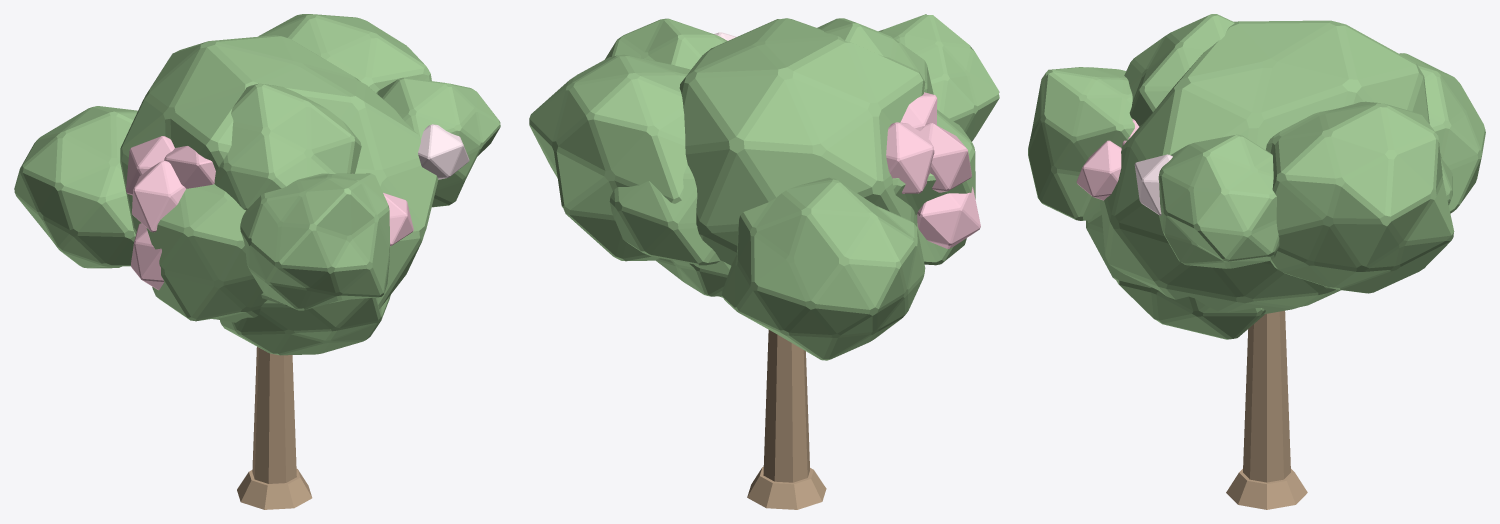
File: Veg_Tree_Blossom.fbx
3 renders of one model, left to right at view 1: azimuth 30°, elevation 25°; view 2: azimuth 150°, elevation 25°; view 3: azimuth 270°, elevation 25°, orthographic. The views are drawn at different scales.
Visible parts, largest first — view 1: Veg_Tree_Blossom_Veg, Veg_Tree_Blossom; view 2: Veg_Tree_Blossom_Veg, Veg_Tree_Blossom; view 3: Veg_Tree_Blossom_Veg, Veg_Tree_Blossom.
Boxes of the visible parts, x1,y1,x2,y2 form: Veg_Tree_Blossom_Veg: [14, 14, 500, 355]; Veg_Tree_Blossom: [237, 347, 312, 509]; Veg_Tree_Blossom_Veg: [529, 14, 999, 360]; Veg_Tree_Blossom: [747, 330, 826, 509]; Veg_Tree_Blossom_Veg: [1028, 14, 1485, 339]; Veg_Tree_Blossom: [1226, 310, 1307, 509].
Size of the model in its own units: 2.45 by 2.71 by 2.46.
